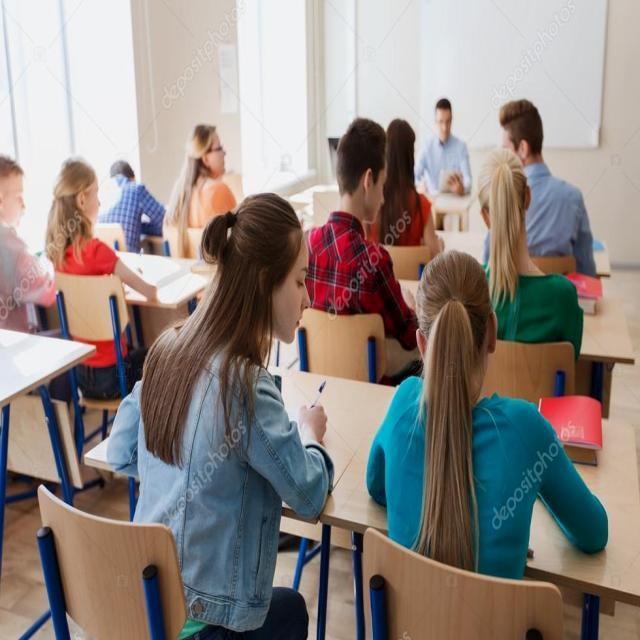cheating: (135, 180, 342, 533)
good: (366, 242, 629, 588)
